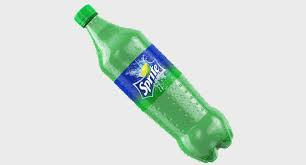sprite_bottle: (74, 6, 235, 164)
